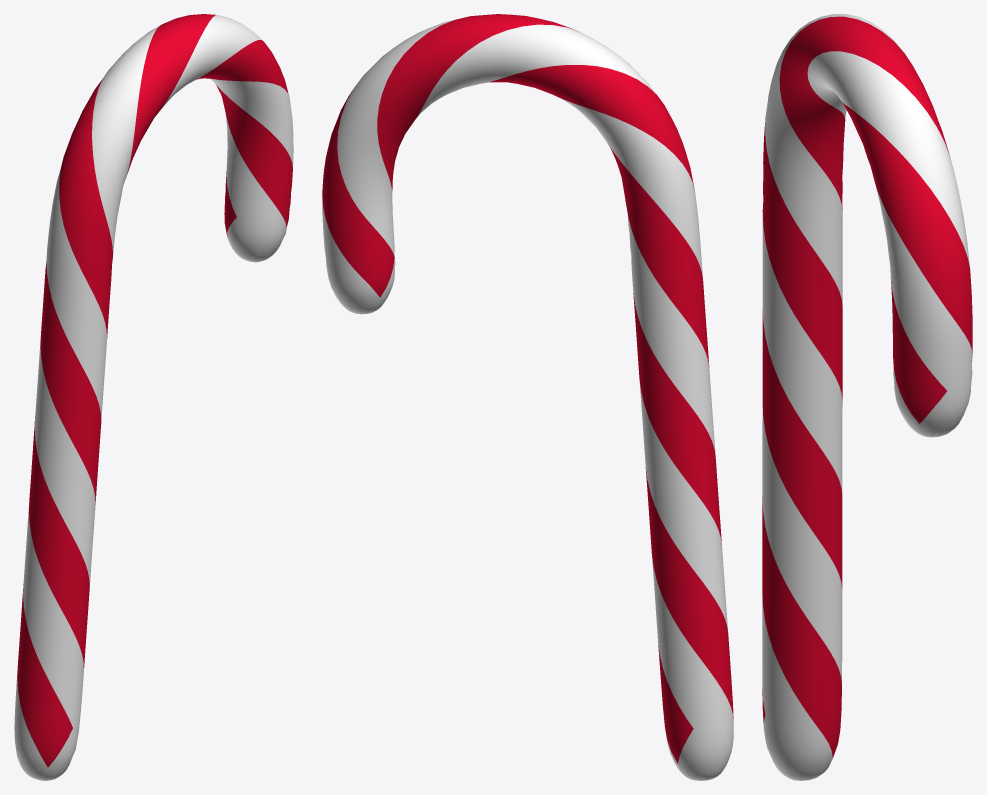
File: Candycane.fbx
The picture shows the model from 3 angles, left to right: view 1: azimuth 30°, elevation 25°; view 2: azimuth 150°, elevation 25°; view 3: azimuth 270°, elevation 25°; orthographic projection. The views are drawn at different scales.
Visible parts, largest first — view 1: Vert.010; view 2: Vert.010; view 3: Vert.010.
Boxes of the visible parts, x1,y1,x2,y2 form: Vert.010: [14, 14, 293, 780]; Vert.010: [322, 14, 733, 780]; Vert.010: [762, 14, 972, 780].
Size of the model in its own units: 72.74 by 149 by 33.94.
